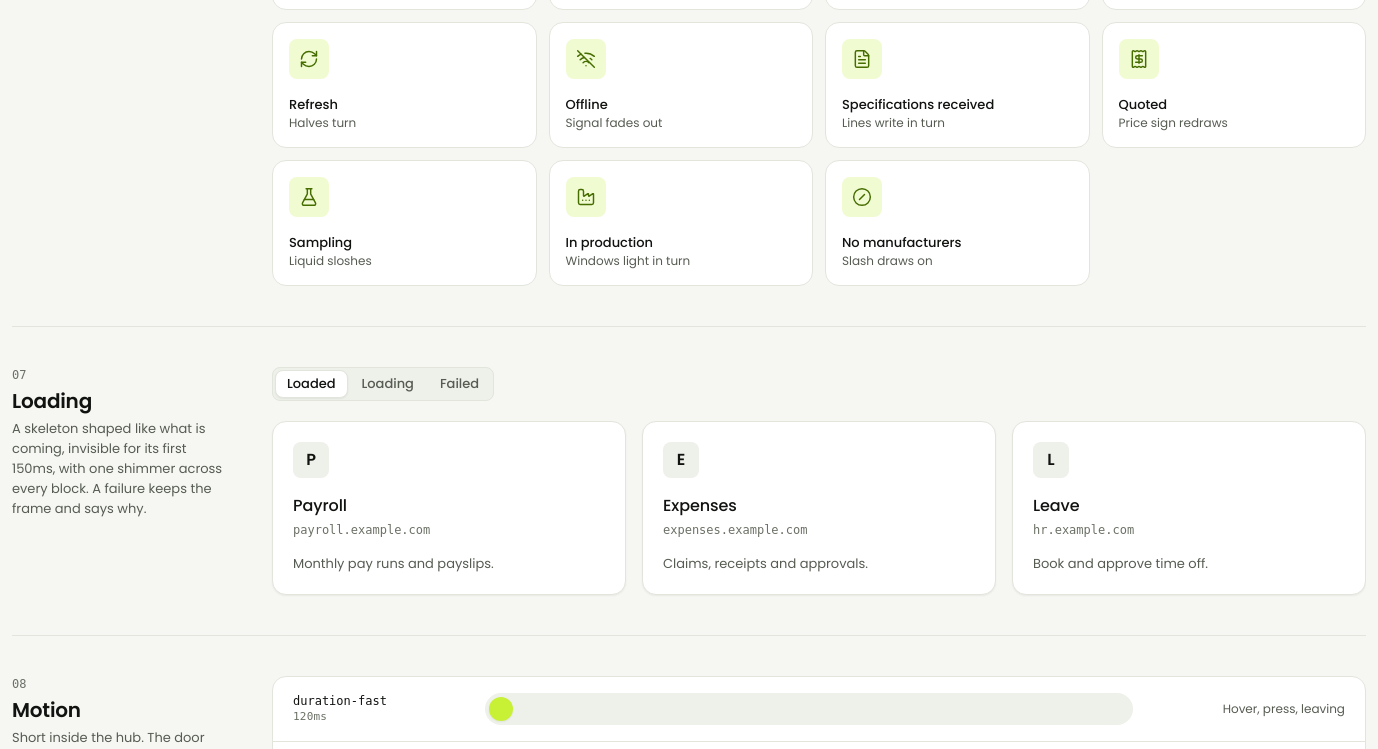
Test: ThemePage › shows the skeleton when the sample is set to loading
(page scrolled)
Click the radio button labelled "Loading".
click(388, 384)  # box [350, 370, 426, 398]
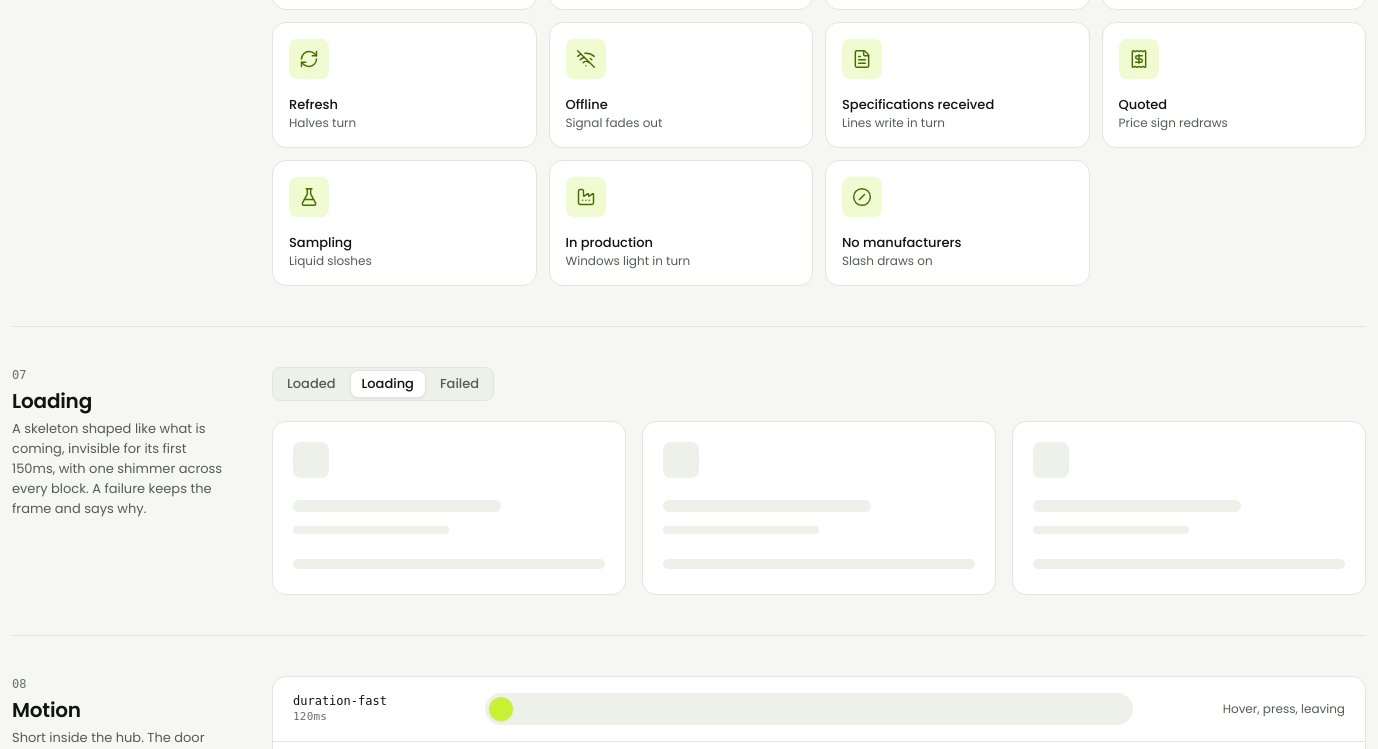
Expected: the message named "Loading samples" is shown, [272, 421, 1366, 595]
